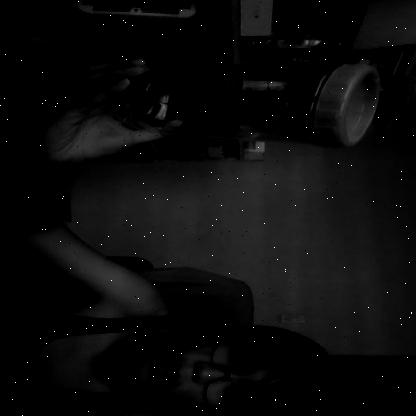Plastic Bottle: (104, 60, 382, 148)
